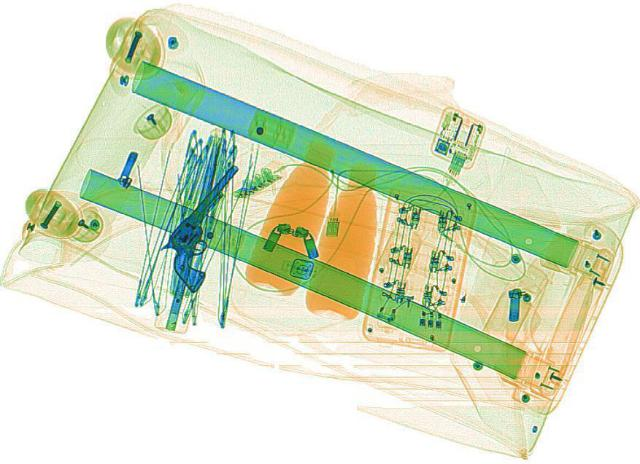Gun: (134, 162, 290, 292)
